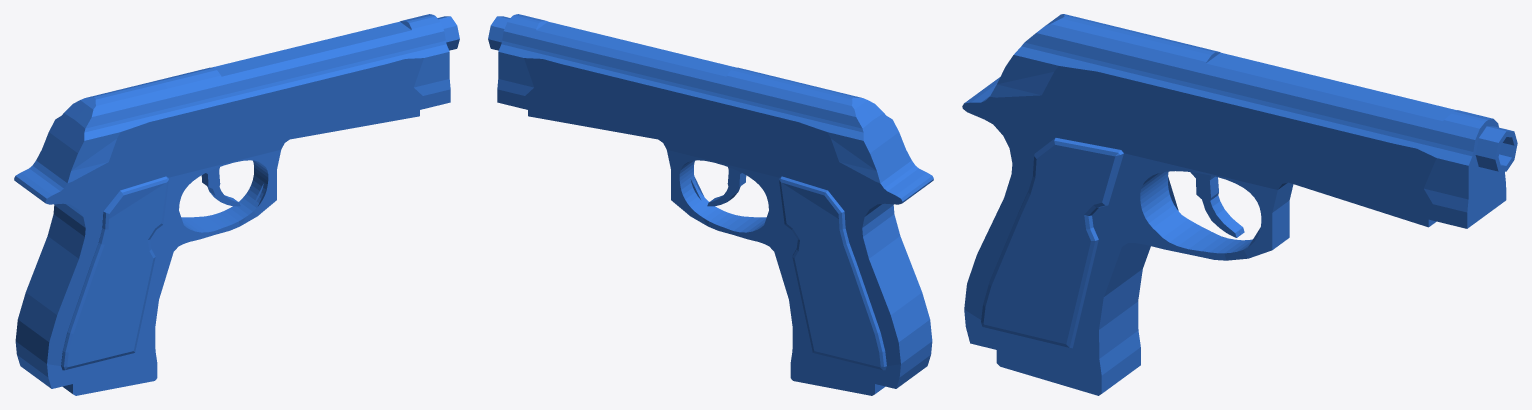
Rendered from obj_pistol.glb.
3 views of the same model, side by side, from view 1: azimuth 30°, elevation 25°; view 2: azimuth 150°, elevation 25°; view 3: azimuth 330°, elevation 25° (orthographic). The views are drawn at different scales.
Parts seen in each view (by area): view 1: NurbsPath; view 2: NurbsPath; view 3: NurbsPath.
Boxes of the visible parts, box(x1,y1,x2,y2) form: NurbsPath: box(14, 14, 459, 395); NurbsPath: box(488, 14, 933, 395); NurbsPath: box(962, 14, 1517, 395).
Size of the model in its own units: 4.58 by 2.93 by 0.6812.
